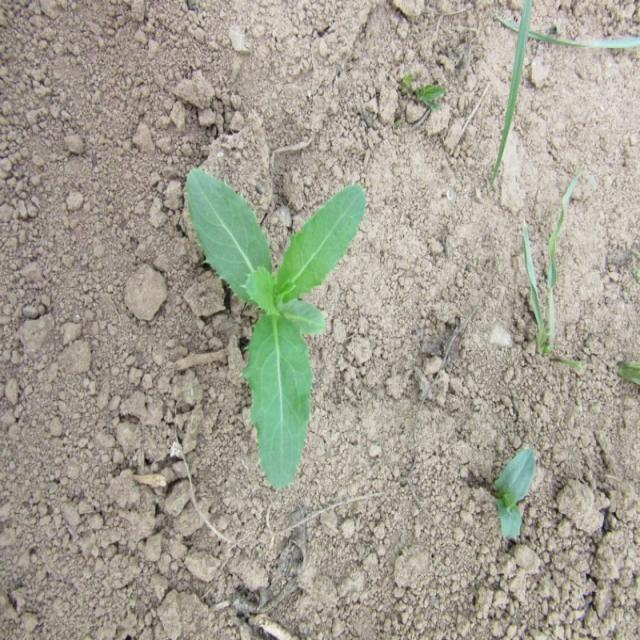field_thistle: (170, 144, 380, 477)
